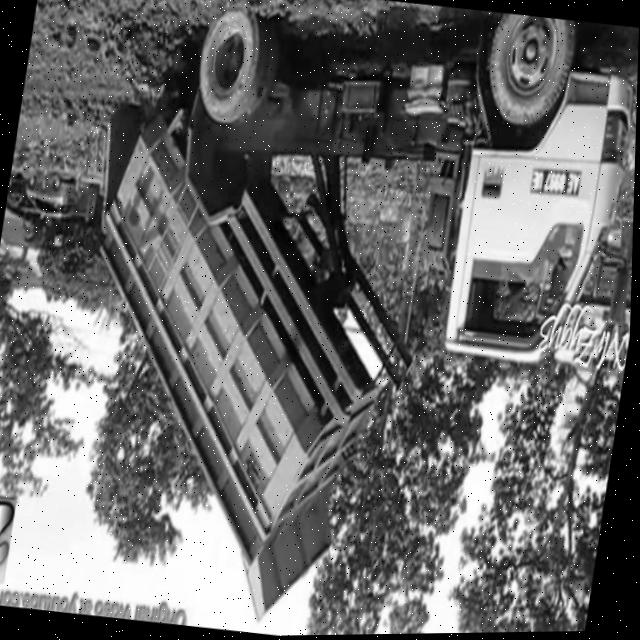truck: (396, 22, 640, 412)
